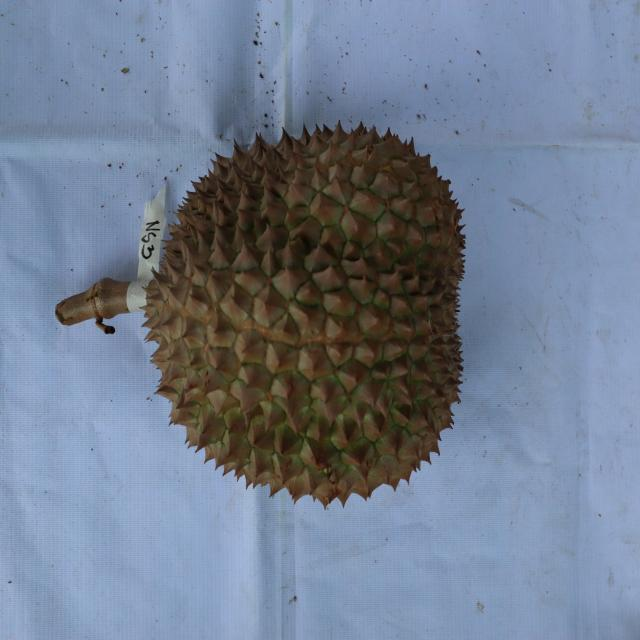mature: (138, 122, 468, 506)
